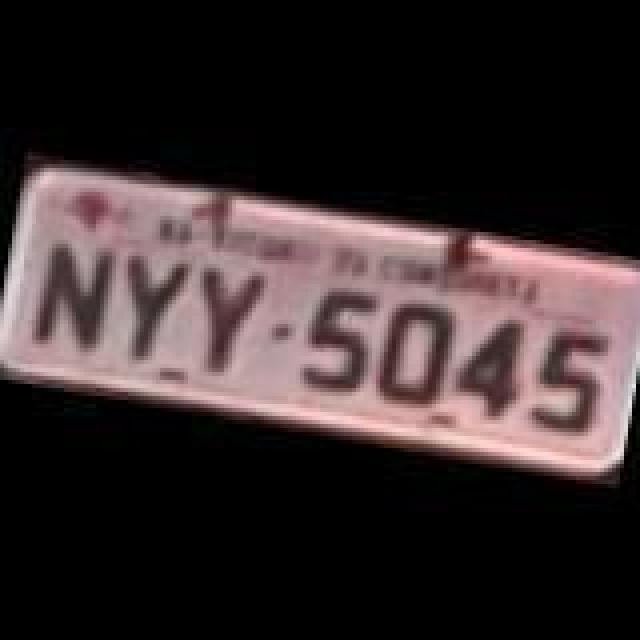4: (444, 304, 532, 424)
5: (524, 316, 612, 436), (292, 284, 380, 404)
N: (28, 232, 116, 360)
O: (374, 298, 458, 406)
Y: (106, 244, 190, 364), (182, 260, 266, 380)
